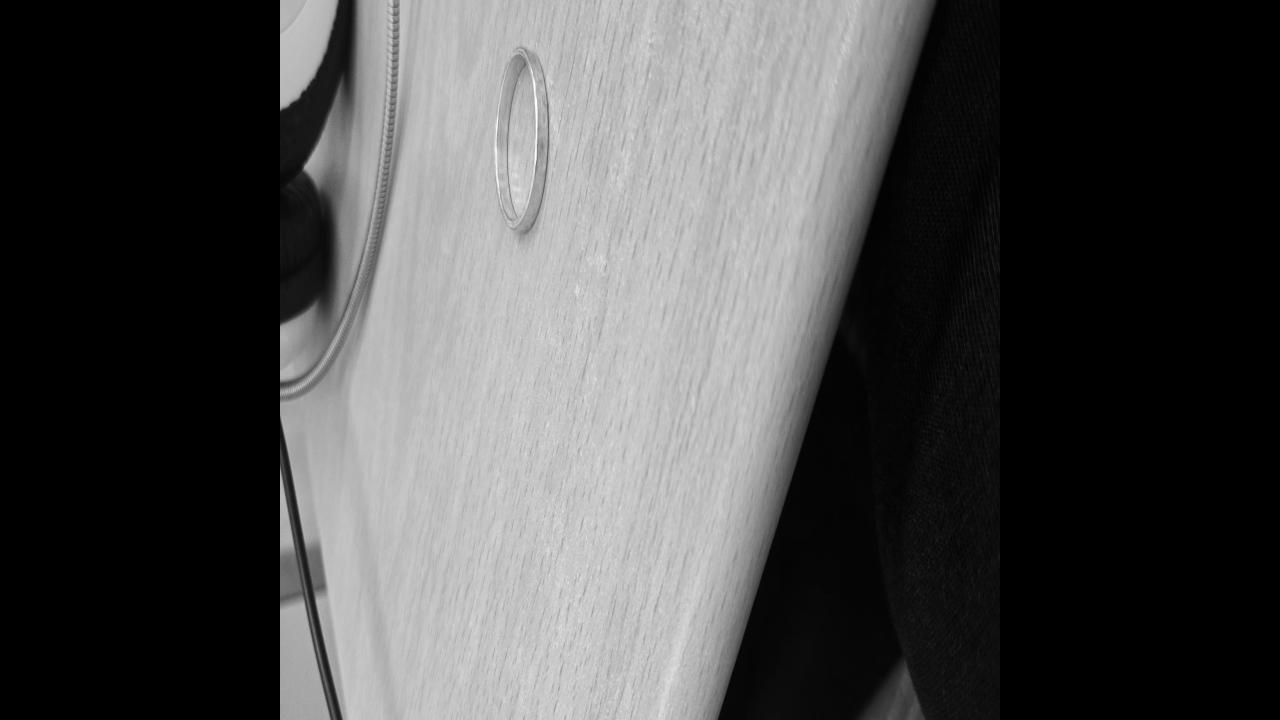ring: (494, 47, 552, 235)
